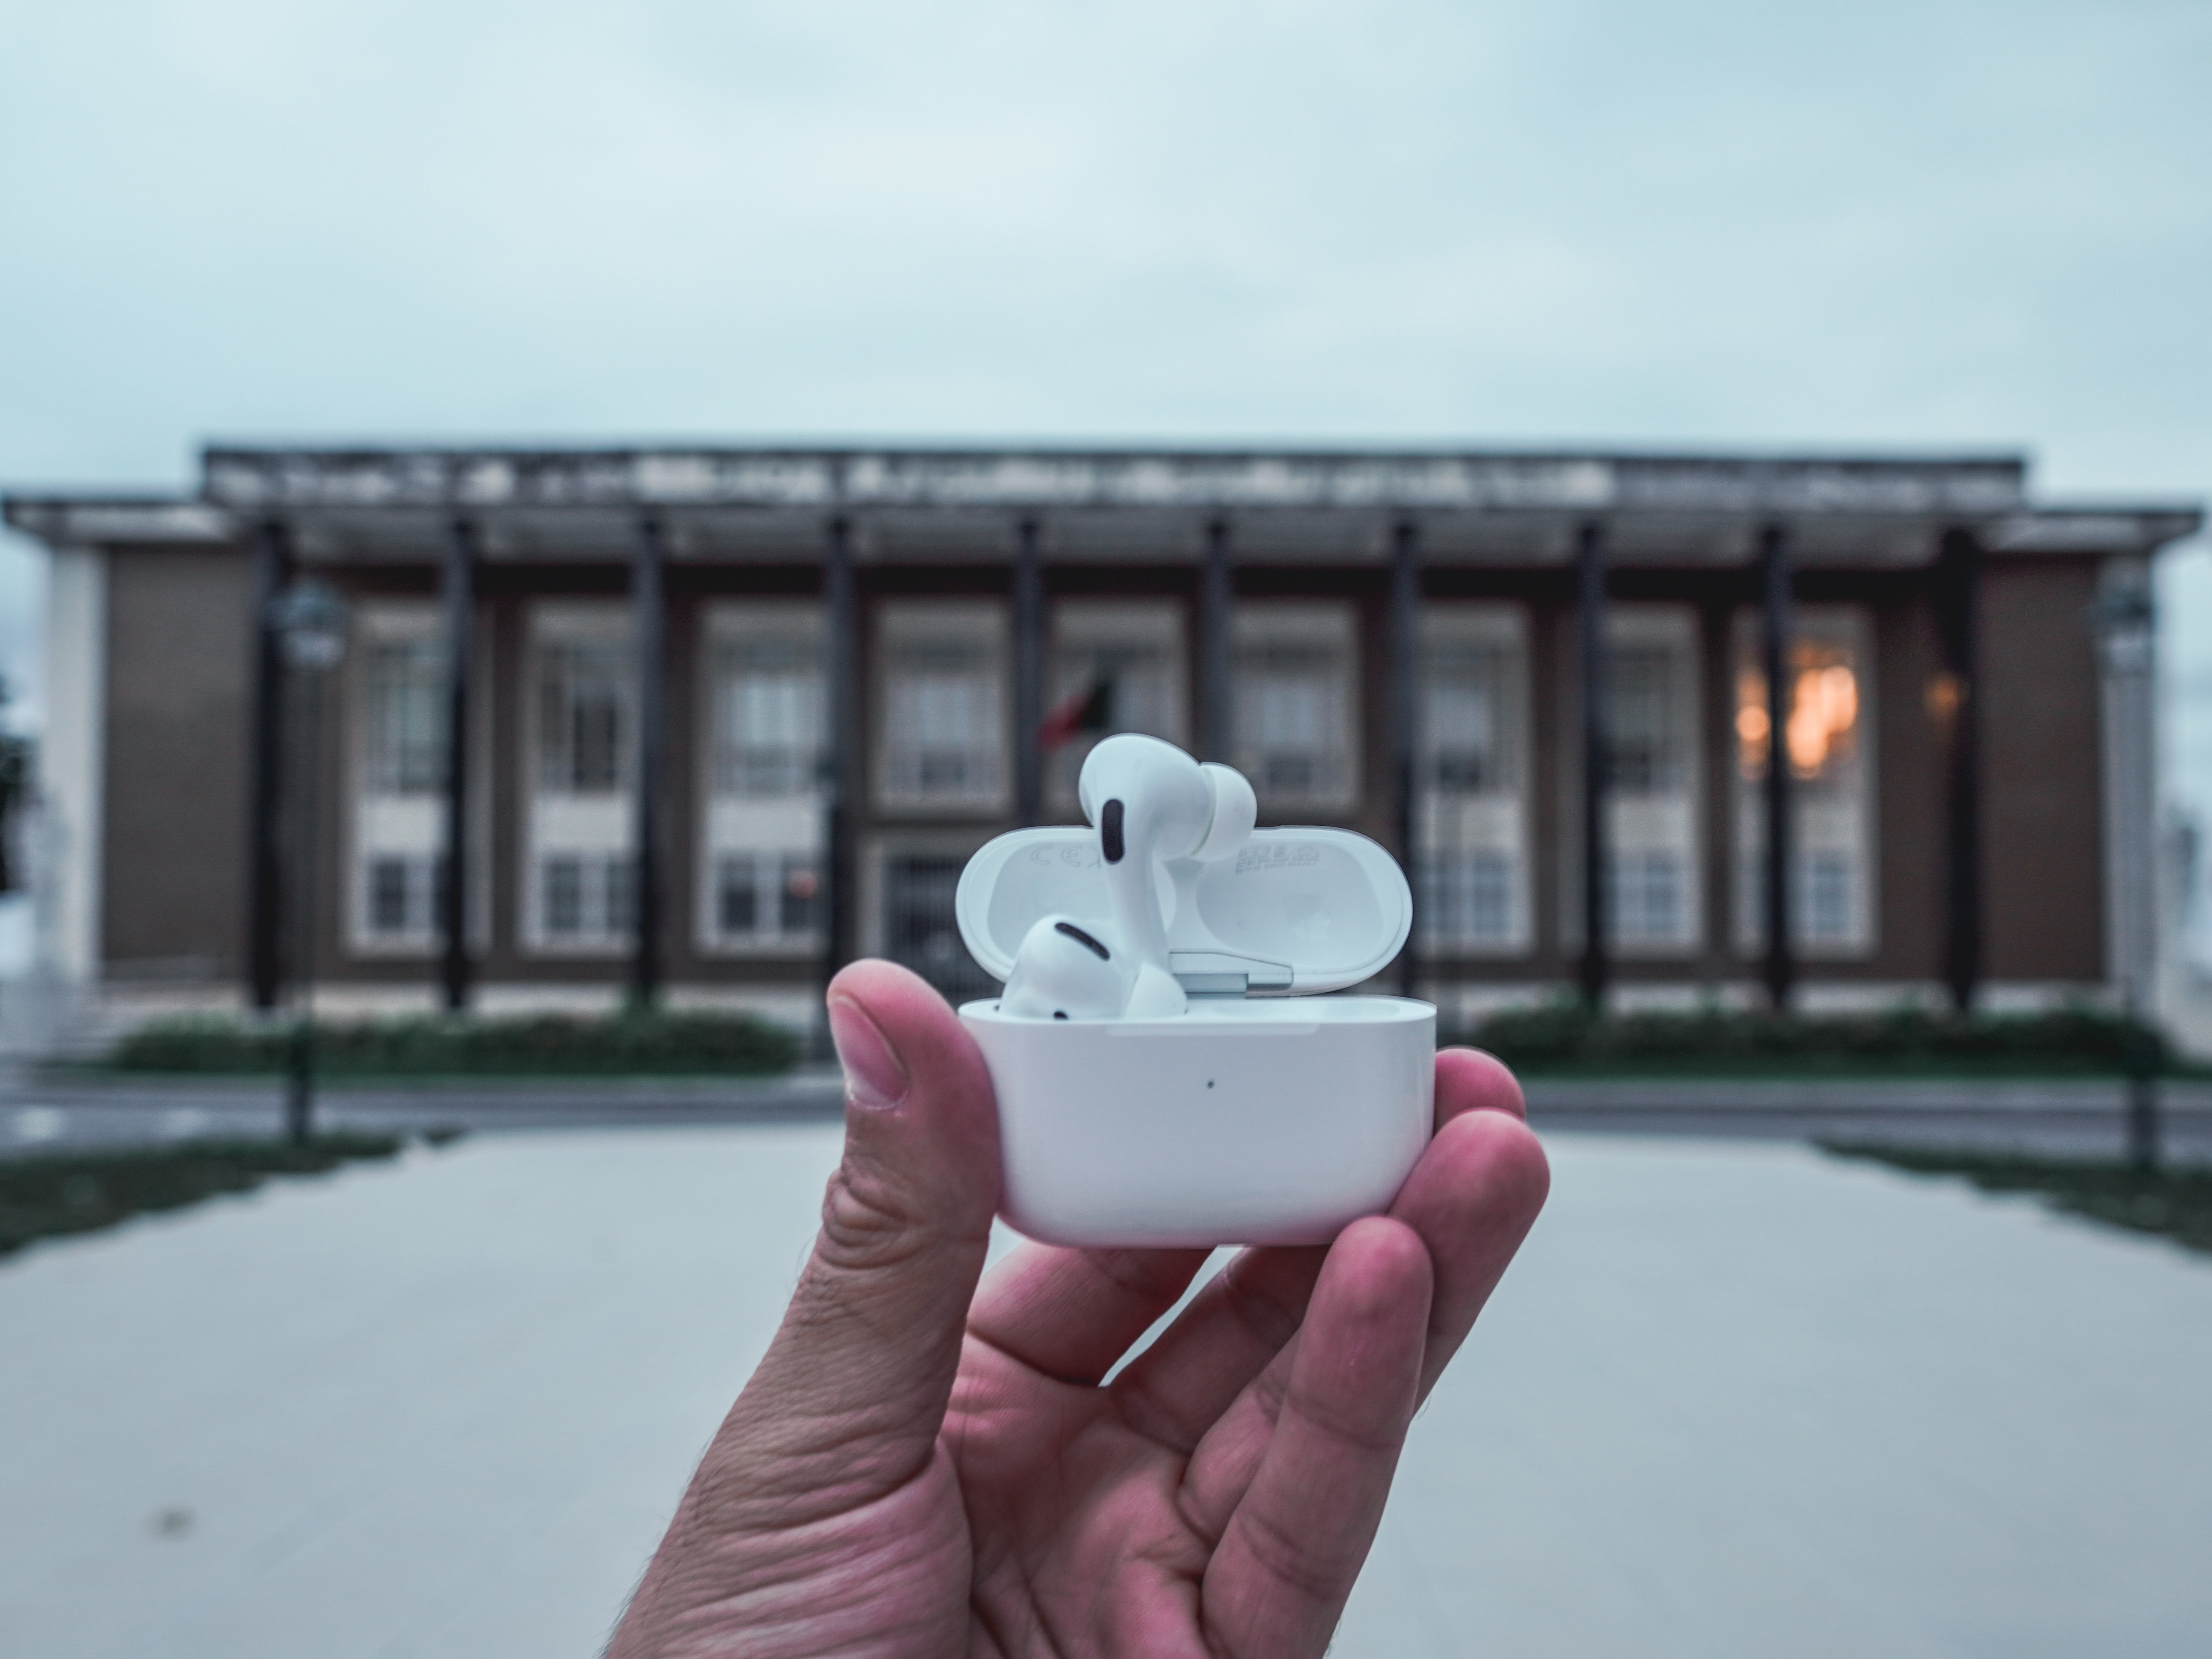airpods: (963, 732, 1428, 1249)
